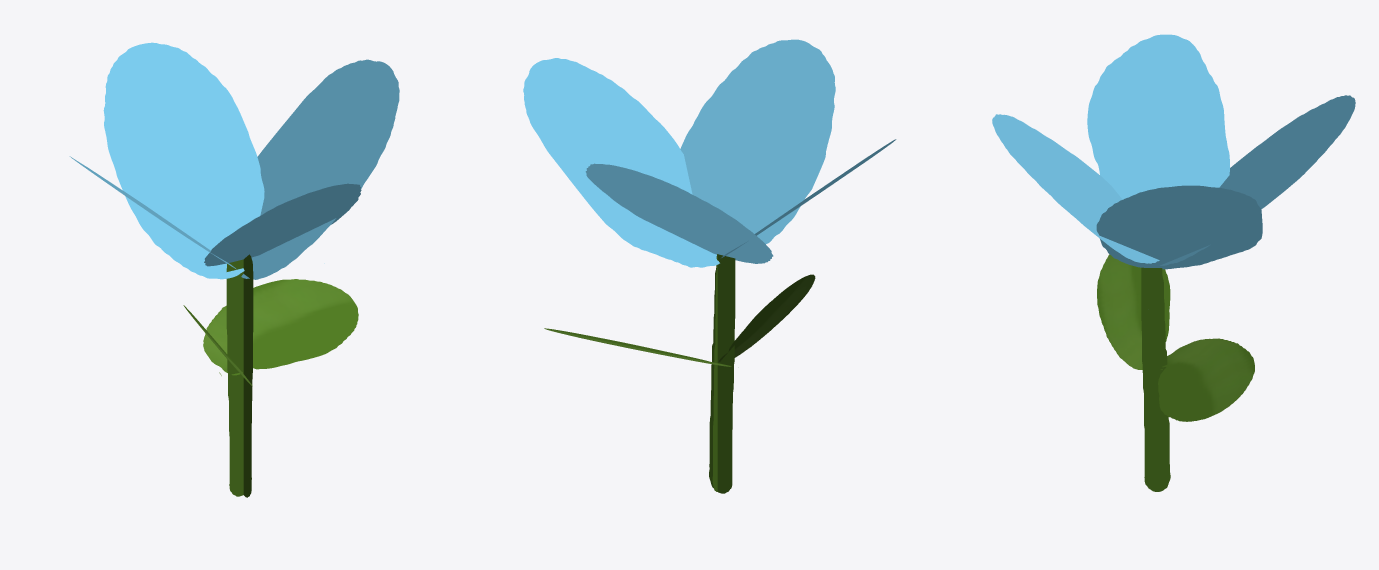
Rendered from Blue_flower.fbx.
3 views of the same model, side by side, from view 1: azimuth 30°, elevation 25°; view 2: azimuth 150°, elevation 25°; view 3: azimuth 270°, elevation 25° (orthographic). The views are drawn at different scales.
Visible parts, largest first — view 1: Blue_Flat, Blue_Flat2, small_leaf5, Blue_Flat1, flower_base2, flower_base3, Blue_Flat3; view 2: Blue_Flat1, Blue_Flat2, Blue_Flat, flower_base2, small_leaf6, flower_base3, small_leaf5, Blue_Flat3; view 3: Blue_Flat3, Blue_Flat2, Blue_Flat, Blue_Flat1, small_leaf5, flower_base3, small_leaf6.
Boxes of the visible parts, left/top/right/bottom form: Blue_Flat: left=103, top=42, right=324, bottom=279; Blue_Flat2: left=241, top=59, right=399, bottom=279; small_leaf5: left=203, top=279, right=358, bottom=375; Blue_Flat1: left=204, top=183, right=361, bottom=266; flower_base2: left=226, top=259, right=251, bottom=496; flower_base3: left=243, top=254, right=253, bottom=497; Blue_Flat3: left=69, top=156, right=236, bottom=269; Blue_Flat1: left=680, top=39, right=835, bottom=243; Blue_Flat2: left=523, top=58, right=719, bottom=267; Blue_Flat: left=585, top=163, right=773, bottom=263; flower_base2: left=709, top=254, right=735, bottom=493; small_leaf6: left=718, top=274, right=815, bottom=361; flower_base3: left=712, top=254, right=717, bottom=491; small_leaf5: left=544, top=328, right=731, bottom=366; Blue_Flat3: left=721, top=139, right=896, bottom=257; Blue_Flat3: left=1087, top=34, right=1229, bottom=199; Blue_Flat2: left=1096, top=185, right=1262, bottom=269; Blue_Flat: left=1160, top=95, right=1355, bottom=265; Blue_Flat1: left=992, top=114, right=1159, bottom=263; small_leaf5: left=1158, top=338, right=1254, bottom=421; flower_base3: left=1141, top=267, right=1170, bottom=491; small_leaf6: left=1097, top=254, right=1170, bottom=369.
Size of the model in its own units: 0.493 by 0.5772 by 0.4547.
